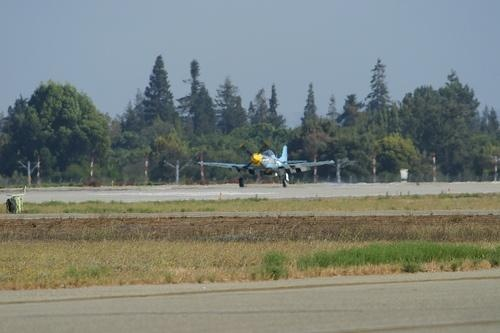aeroplane: (198, 144, 335, 188)
